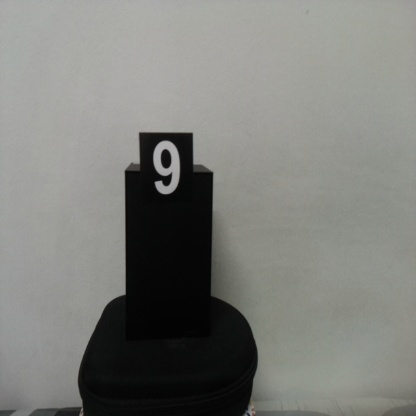id_9: (139, 132, 194, 217)
